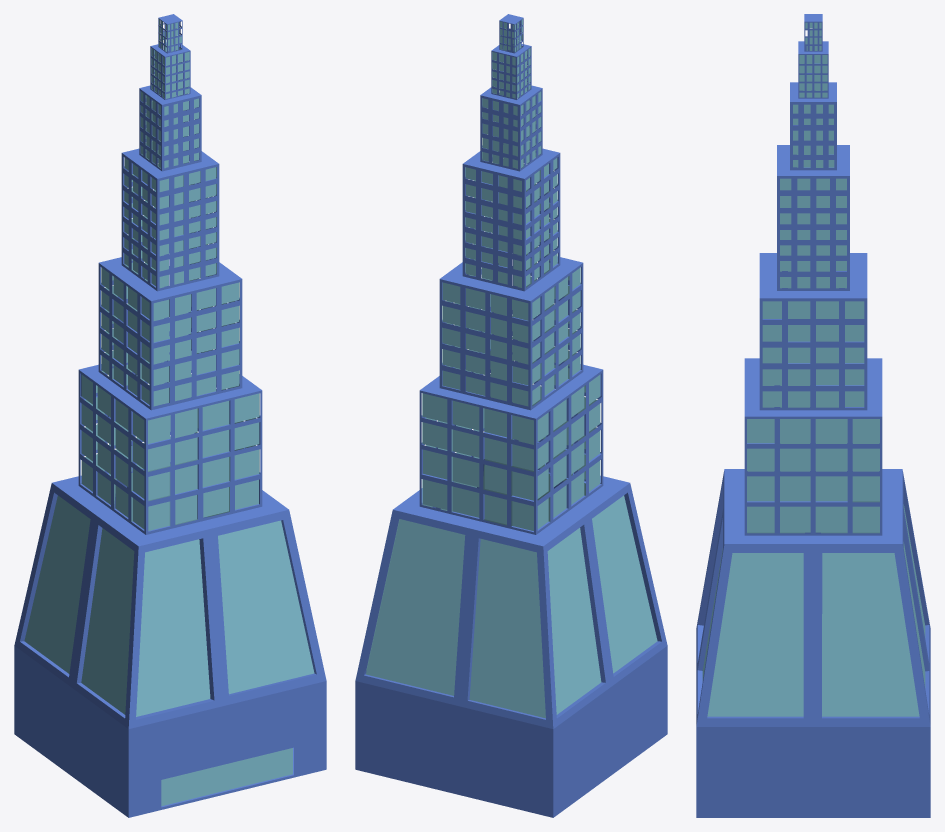
Rendered from big bussiness building.fbx.
3 views of the same model, side by side, from view 1: azimuth 30°, elevation 25°; view 2: azimuth 150°, elevation 25°; view 3: azimuth 270°, elevation 25° (orthographic). The views are drawn at different scales.
Parts seen in each view (by area): view 1: Cube; view 2: Cube; view 3: Cube.
Part boxes in pixels (x1,y1,x2,y2): Cube: (14, 14, 326, 817); Cube: (355, 14, 667, 817); Cube: (696, 14, 930, 817).
Bounding box in the file's own units: 1038 × 3672 × 1038.
2 materials, 2 textured.
